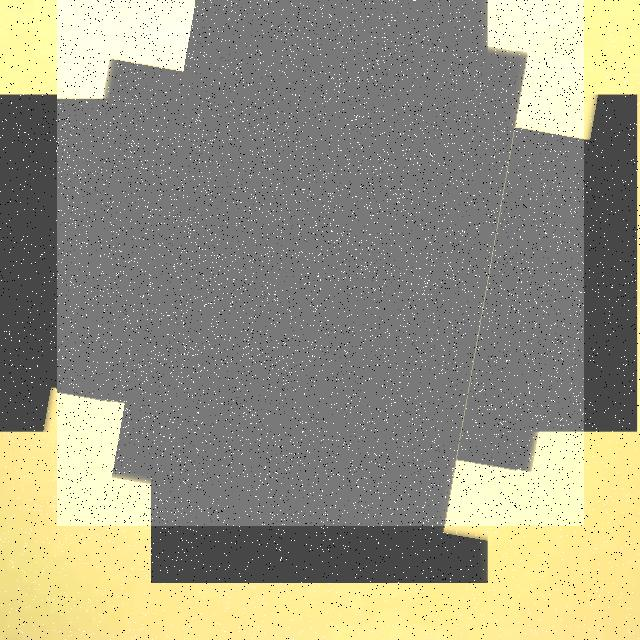dua puluh ribu rupiah: (57, 0, 584, 526)
